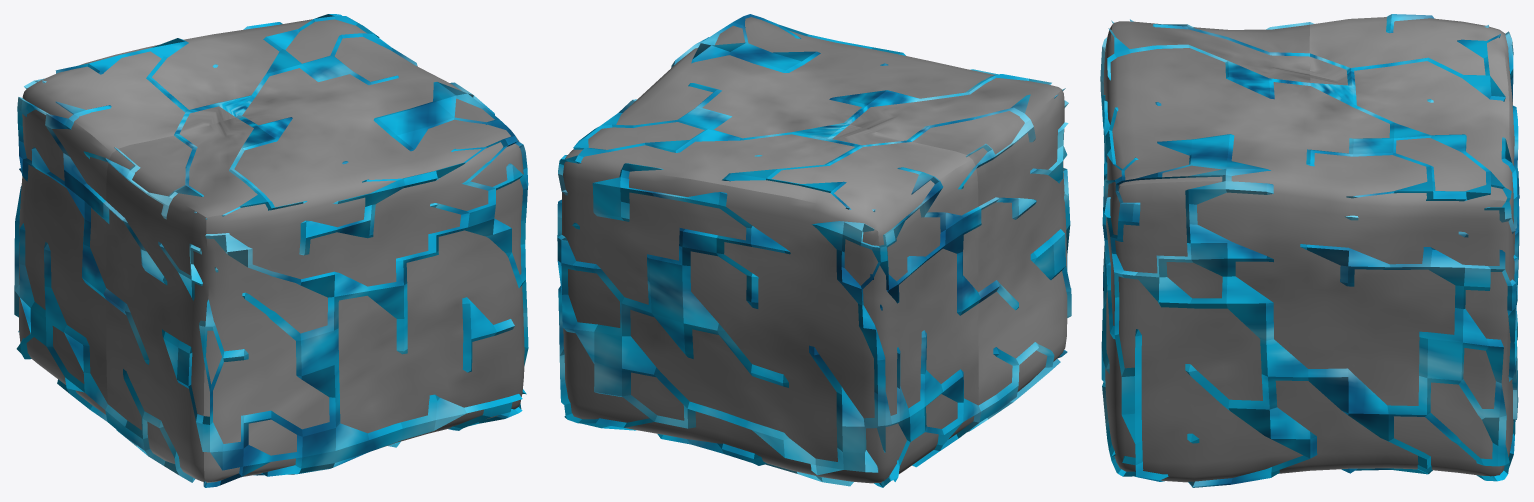
The model's file is CUBE_ARRONDI_FULL.fbx.
3 renders of one model, left to right at view 1: azimuth 30°, elevation 25°; view 2: azimuth 150°, elevation 25°; view 3: azimuth 270°, elevation 25°, orthographic. The views are drawn at different scales.
Parts seen in each view (by area): view 1: pierre; view 2: pierre; view 3: pierre.
Boxes of the visible parts, box(x1,y1,x2,y2) form: pierre: box(14, 14, 528, 487); pierre: box(557, 14, 1071, 487); pierre: box(1100, 14, 1519, 487).
Size of the model in its own units: 210 by 177 by 211.
1 material, 1 textured.
